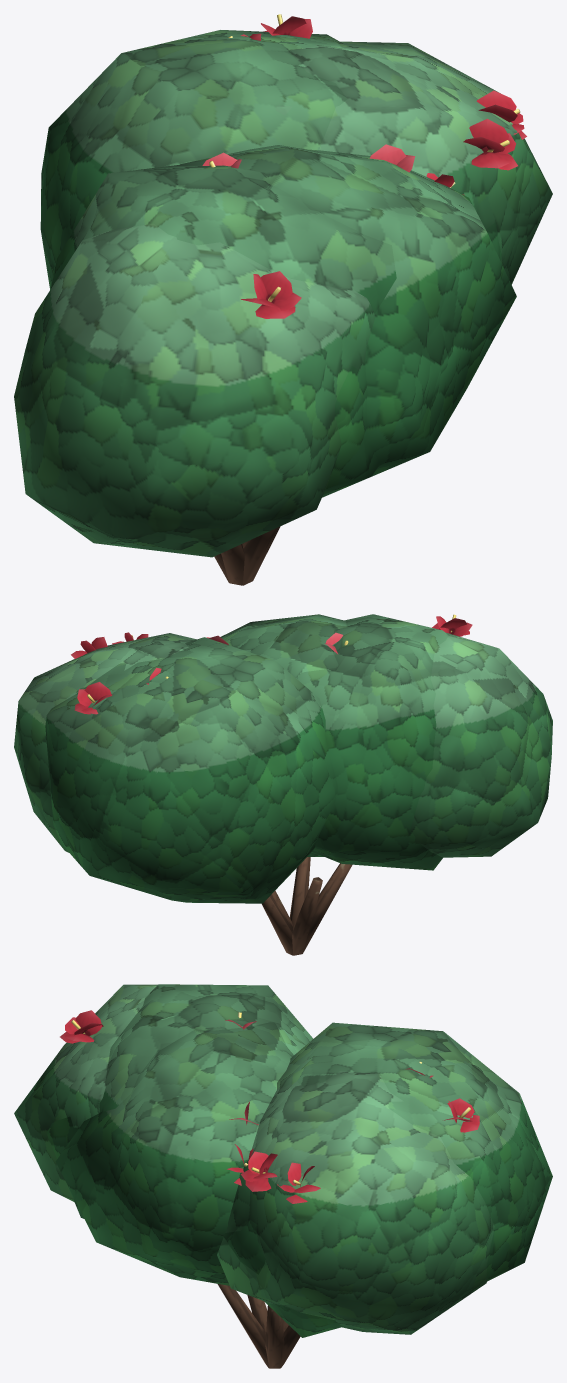
Rendered from hibiscus_a.glb.
The picture shows the model from 3 angles, top to bottom: view 1: azimuth 30°, elevation 25°; view 2: azimuth 150°, elevation 25°; view 3: azimuth 270°, elevation 25°; orthographic projection. The views are drawn at different scales.
Visible parts, largest first — view 1: Hibiscus_leaf, HibiscusFlowers; view 2: Hibiscus_leaf, HibiscusFlowers; view 3: Hibiscus_leaf, HibiscusFlowers.
Part boxes in pixels (x1,y1,x2,y2): Hibiscus_leaf: (14, 30, 552, 585); HibiscusFlowers: (202, 14, 526, 318); Hibiscus_leaf: (14, 614, 552, 955); HibiscusFlowers: (71, 614, 472, 714); Hibiscus_leaf: (14, 984, 552, 1368); HibiscusFlowers: (60, 1010, 479, 1203).
Bounding box in the file's own units: 1.76 × 1.26 × 1.78.
Materials: 1 (1 with a texture image).
